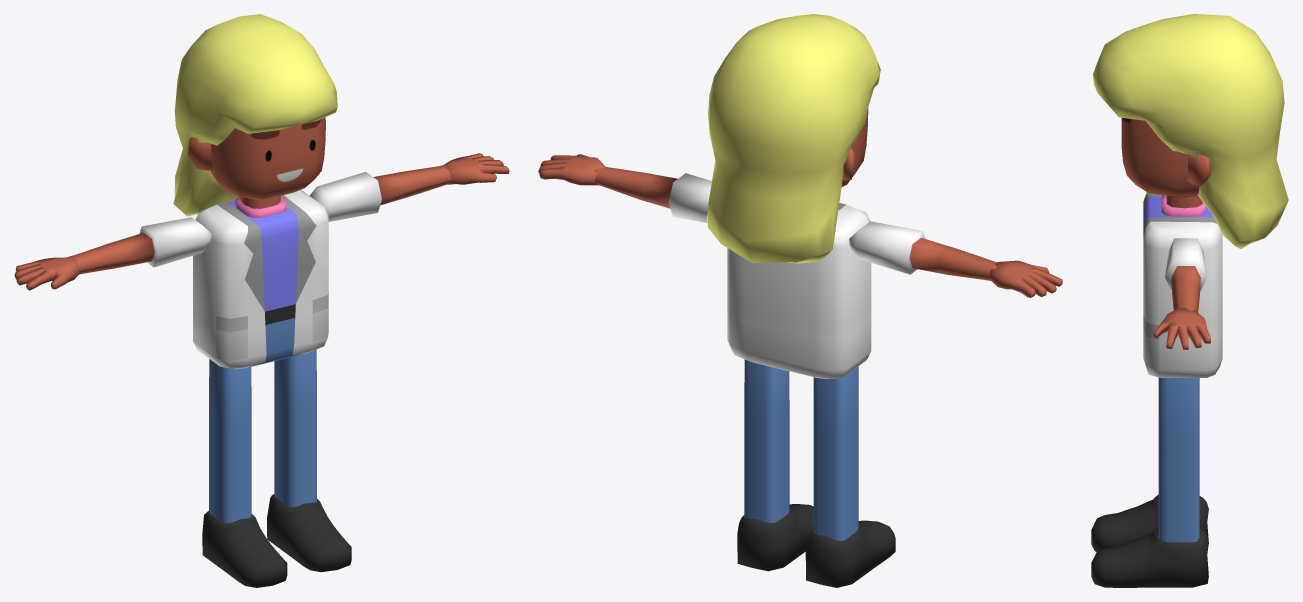
Rendered from NPC_Black02_BlondeHair02.gltf.
3 renders of one model, left to right at view 1: azimuth 30°, elevation 25°; view 2: azimuth 150°, elevation 25°; view 3: azimuth 270°, elevation 25°, orthographic. The views are drawn at different scales.
Visible parts, largest first — view 1: NPC_Corpo_Black2_BlondeHair.002; view 2: NPC_Corpo_Black2_BlondeHair.002; view 3: NPC_Corpo_Black2_BlondeHair.002.
Boxes of the visible parts, box(x1,y1,x2,y2) form: NPC_Corpo_Black2_BlondeHair.002: box(14, 14, 509, 587); NPC_Corpo_Black2_BlondeHair.002: box(538, 14, 1062, 587); NPC_Corpo_Black2_BlondeHair.002: box(1091, 14, 1288, 587).
Size of the model in its own units: 2.31 by 2.33 by 0.7777.
1 material, 1 textured.
